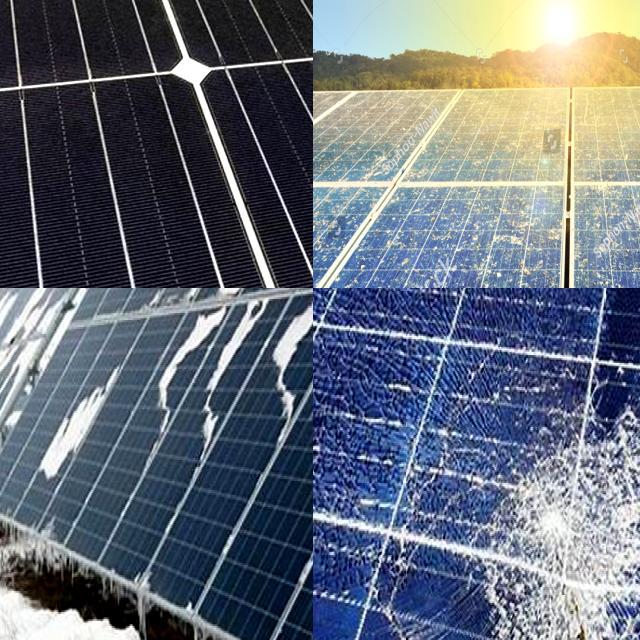bird: (358, 136, 401, 184), (313, 201, 352, 251), (495, 231, 527, 269)
crack: (0, 78, 313, 288), (162, 40, 313, 288), (0, 0, 214, 134), (106, 0, 313, 108), (82, 0, 313, 69), (0, 0, 149, 72)
hotspot: (473, 385, 640, 640), (313, 363, 395, 559)
panel: (27, 514, 155, 615), (173, 571, 313, 640), (44, 363, 118, 493), (150, 309, 224, 427), (216, 288, 266, 361), (0, 407, 36, 502), (13, 288, 64, 351), (202, 356, 230, 466), (270, 292, 313, 360), (159, 288, 234, 320), (284, 288, 313, 366), (0, 365, 24, 459), (231, 301, 273, 350), (255, 288, 302, 328), (0, 303, 21, 383), (272, 376, 304, 426), (0, 361, 25, 412), (0, 298, 25, 341)
